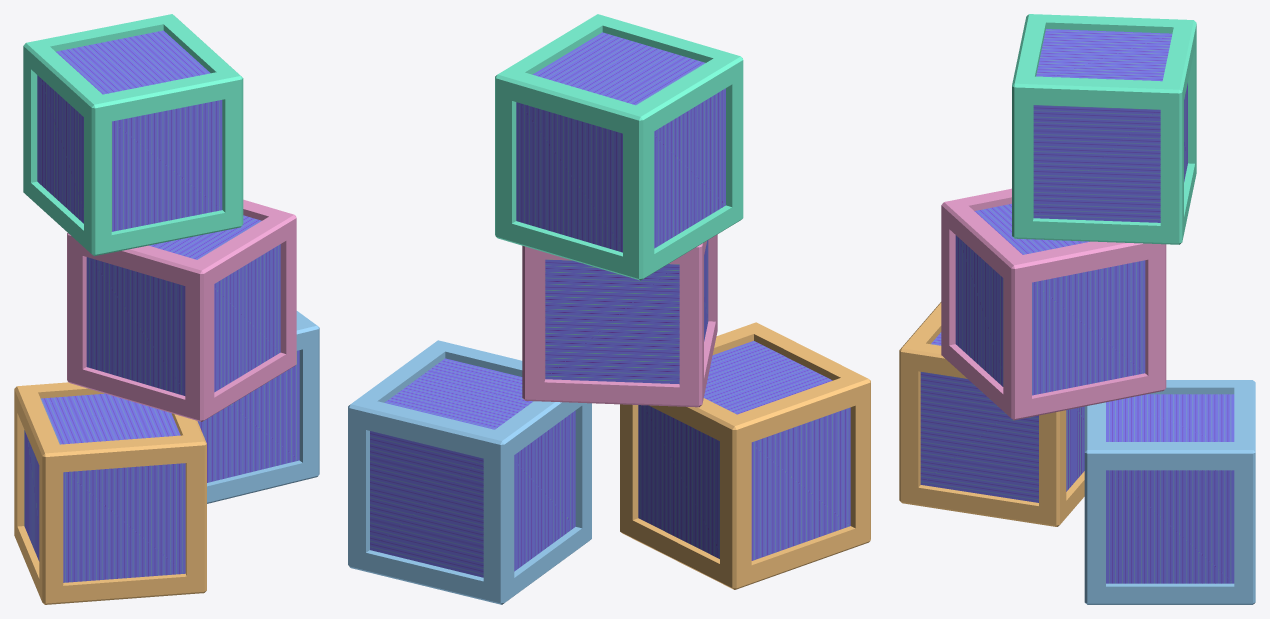
Rendered from WoodBlocks_Group_E_01.FBX.
3 views of the same model, side by side, from view 1: azimuth 30°, elevation 25°; view 2: azimuth 150°, elevation 25°; view 3: azimuth 270°, elevation 25° (orthographic). The views are drawn at different scales.
Visible parts, largest first — view 1: WoodBlocks_Group_E_Rough_01, WoodBlocks_Group_E_01; view 2: WoodBlocks_Group_E_Rough_01, WoodBlocks_Group_E_01; view 3: WoodBlocks_Group_E_Rough_01, WoodBlocks_Group_E_01.
Part boxes in pixels (x1,y1,x2,y2): WoodBlocks_Group_E_Rough_01: (24, 30, 299, 582); WoodBlocks_Group_E_01: (14, 14, 319, 604); WoodBlocks_Group_E_Rough_01: (370, 32, 850, 577); WoodBlocks_Group_E_01: (348, 14, 870, 604); WoodBlocks_Group_E_Rough_01: (920, 29, 1234, 583); WoodBlocks_Group_E_01: (899, 14, 1255, 604).
Bounding box in the file's own units: 2.82 × 3.6 × 2.5.
